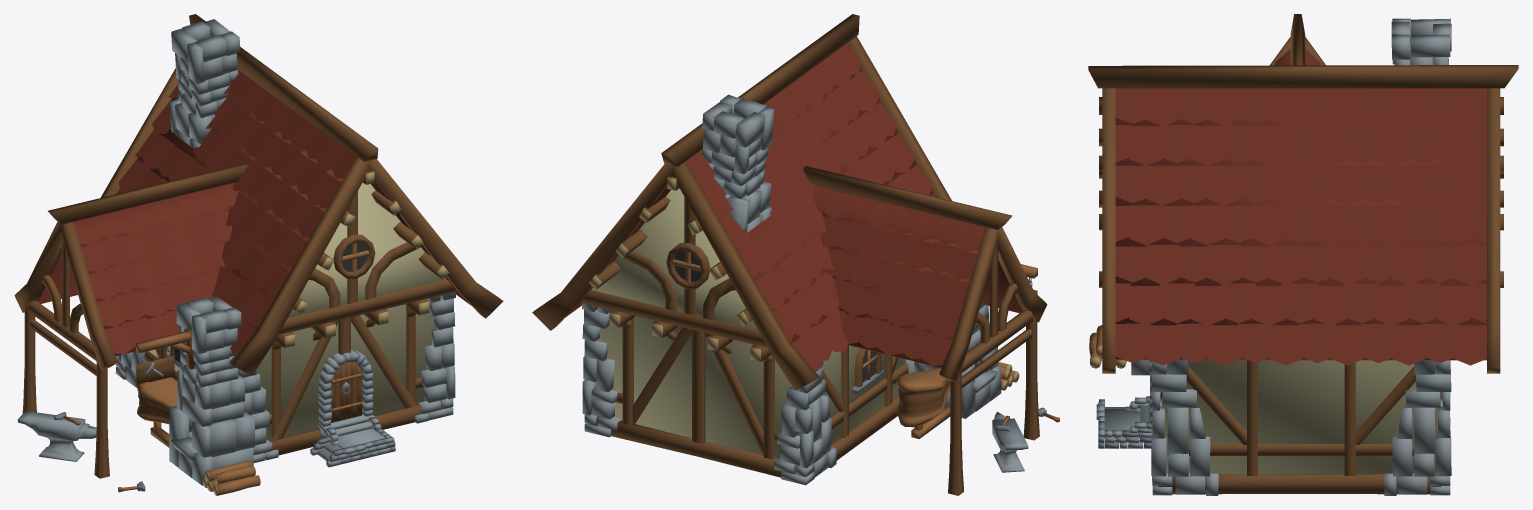
Rendered from blacksmith.glb.
3 views of the same model, side by side, from view 1: azimuth 30°, elevation 25°; view 2: azimuth 150°, elevation 25°; view 3: azimuth 270°, elevation 25° (orthographic). The views are drawn at different scales.
Visible parts, largest first — view 1: Blacksmith; view 2: Blacksmith; view 3: Blacksmith.
Boxes of the visible parts, x1,y1,x2,y2 form: Blacksmith: (14, 14, 503, 495); Blacksmith: (532, 14, 1059, 495); Blacksmith: (1088, 14, 1518, 495).
Size of the model in its own units: 10 by 8 by 8.
